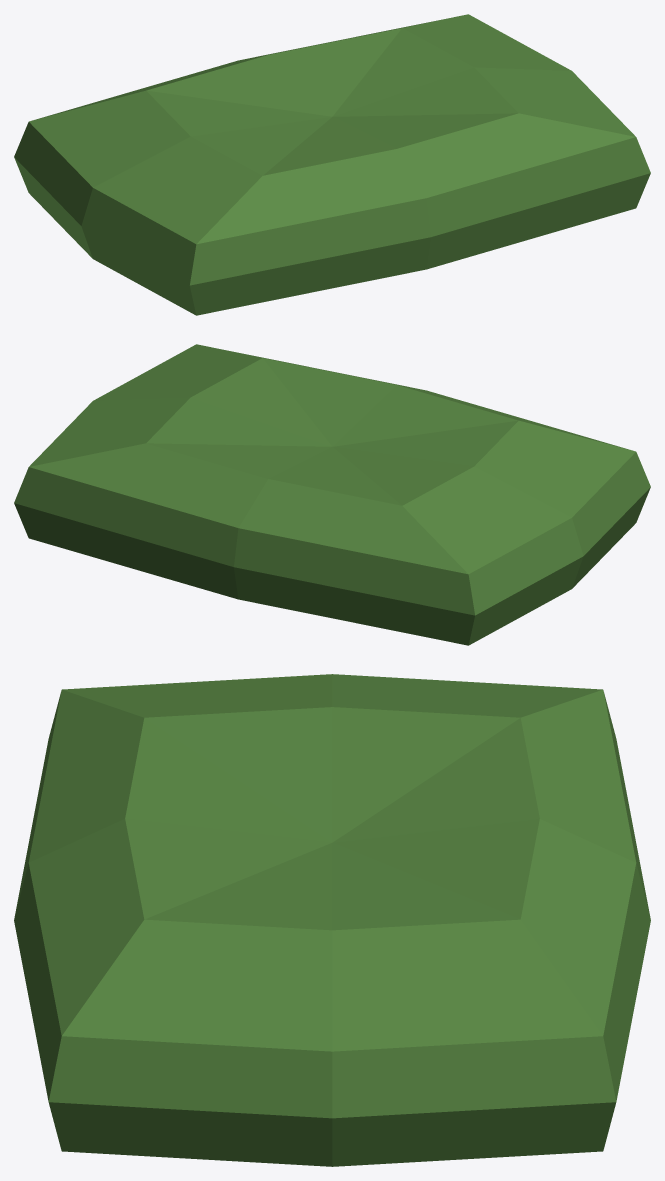
The model's file is Itr_Bed_Pillow_03.FBX.
3 views of the same model, one above another, from view 1: azimuth 30°, elevation 25°; view 2: azimuth 150°, elevation 25°; view 3: azimuth 270°, elevation 25° (orthographic). The views are drawn at different scales.
Visible parts, largest first — view 1: Itr_Bed_Pillow_03; view 2: Itr_Bed_Pillow_03; view 3: Itr_Bed_Pillow_03.
Part boxes in pixels (bbox=[...]): Itr_Bed_Pillow_03: bbox=[14, 14, 650, 315]; Itr_Bed_Pillow_03: bbox=[14, 344, 650, 645]; Itr_Bed_Pillow_03: bbox=[14, 674, 650, 1166].
Bounding box in the file's own units: 21.39 × 4.02 × 14.55.
